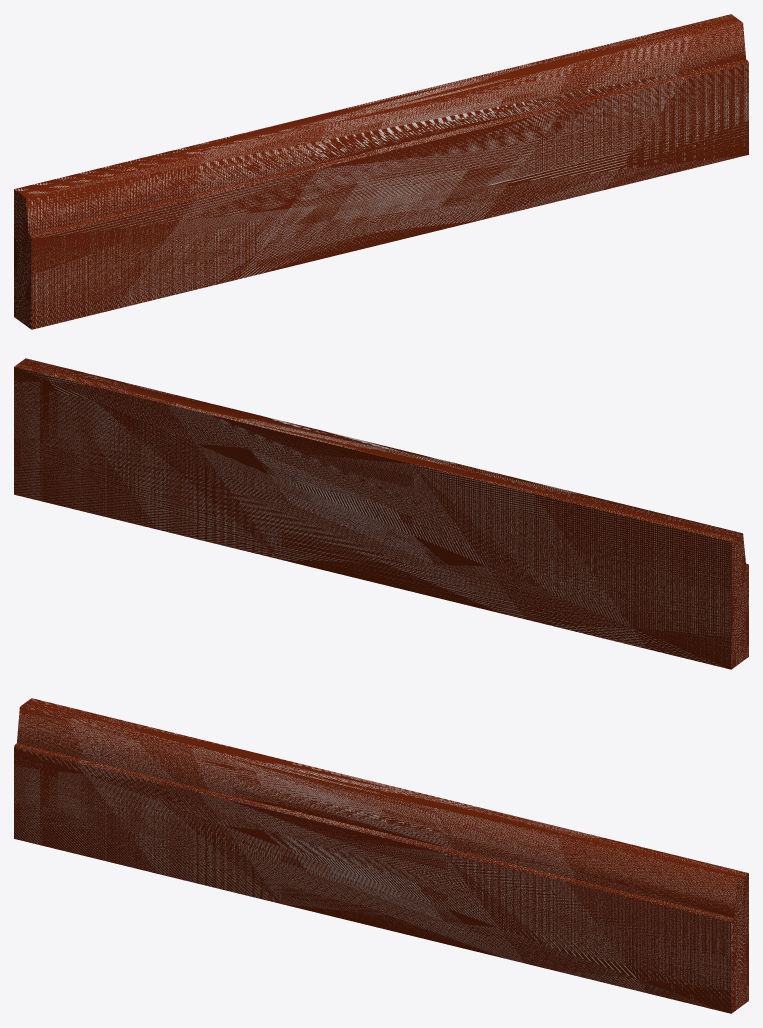
The model's file is original-25.obj.
3 renders of one model, top to bottom at view 1: azimuth 30°, elevation 25°; view 2: azimuth 150°, elevation 25°; view 3: azimuth 330°, elevation 25°, orthographic.
Visible parts, largest first — view 1: TB_11_T1/TB_11_T/mesh16/mesh16-geometry#mesh16-geometry; view 2: TB_11_T1/TB_11_T/mesh16/mesh16-geometry#mesh16-geometry; view 3: TB_11_T1/TB_11_T/mesh16/mesh16-geometry#mesh16-geometry.
Part boxes in pixels (x1=…): TB_11_T1/TB_11_T/mesh16/mesh16-geometry#mesh16-geometry: x1=14, y1=14, x2=748, y2=329; TB_11_T1/TB_11_T/mesh16/mesh16-geometry#mesh16-geometry: x1=14, y1=358, x2=748, y2=669; TB_11_T1/TB_11_T/mesh16/mesh16-geometry#mesh16-geometry: x1=14, y1=698, x2=748, y2=1013.
Bounding box in the file's own units: 1.23 × 0.21 × 0.0525.
